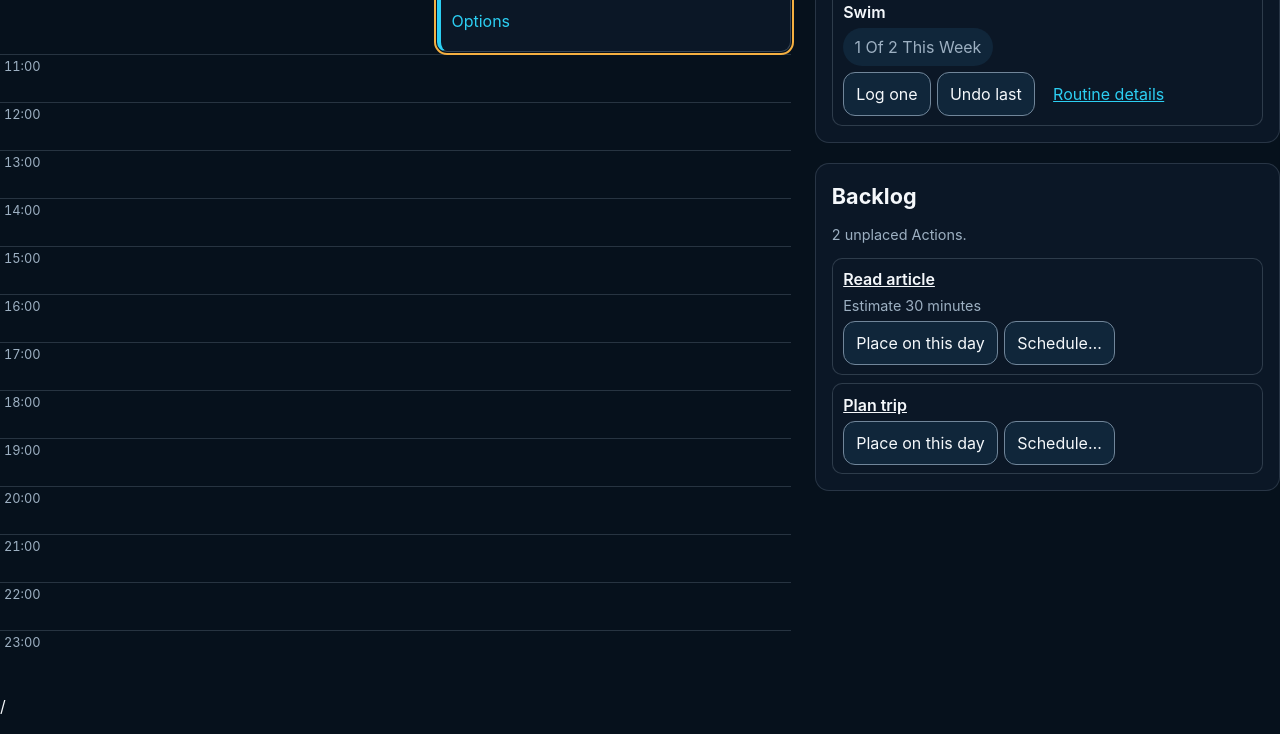
Scenario: Day view › explains clock-change adjustments before scheduling
(page scrolled)
Step 1. Click the button named "Schedule… Read article" → (1060, 343), box [1004,321,1115,365]
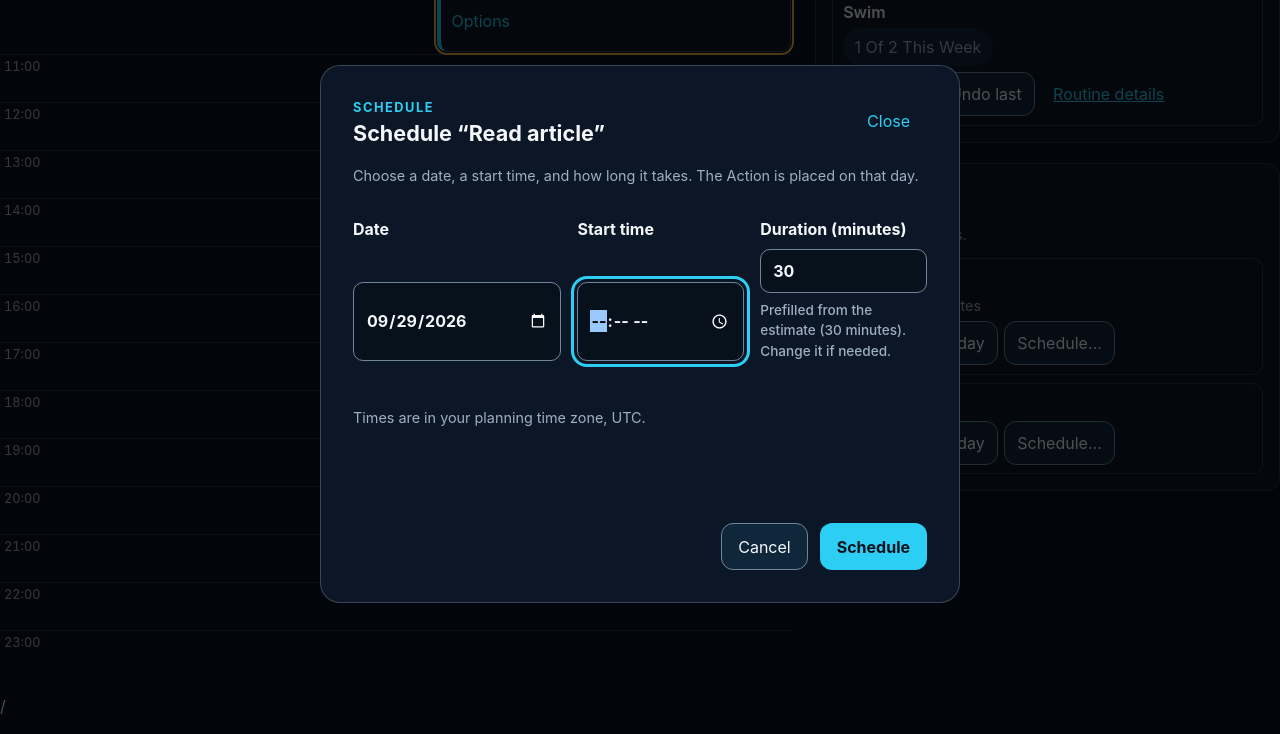
Step 2. Type "02:30" into the time field labelled "Start time" → (661, 322), box [578,282,744,361]
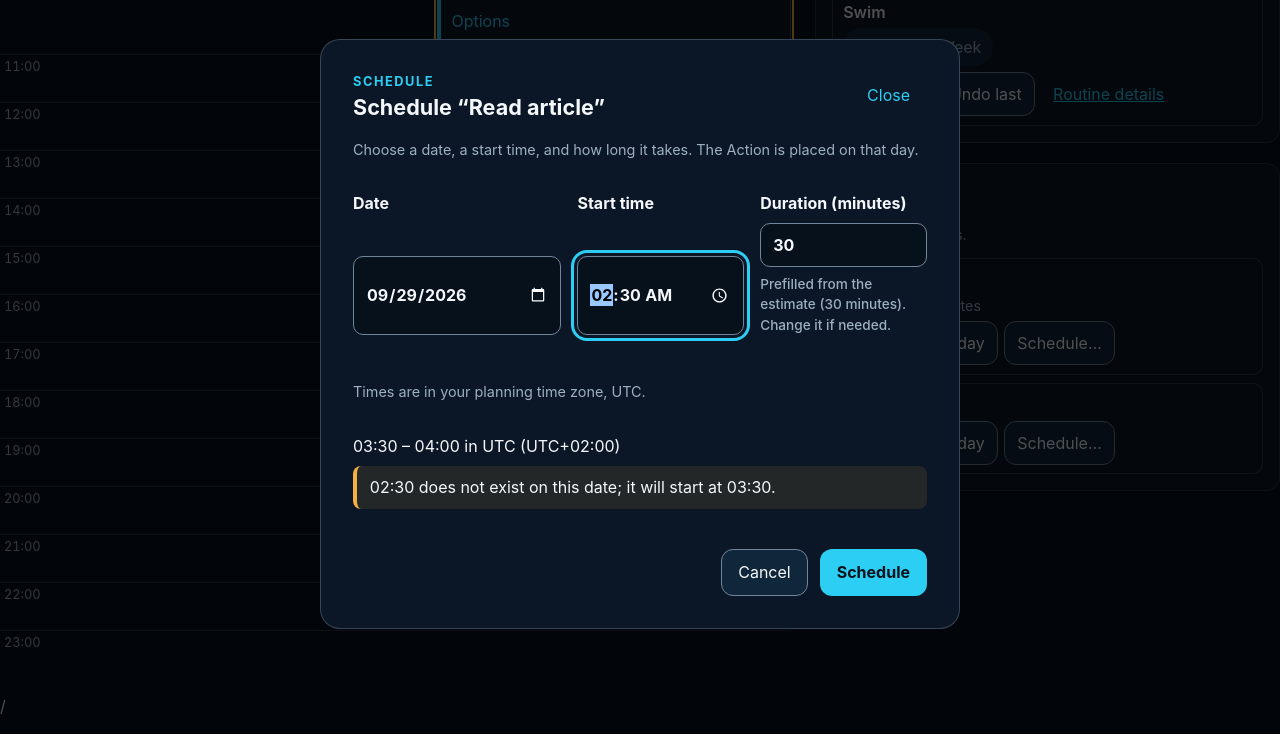
Check: the text "02:30 does not exist on this date; it will start at 03:30." is shown, box [353,466,927,509]
